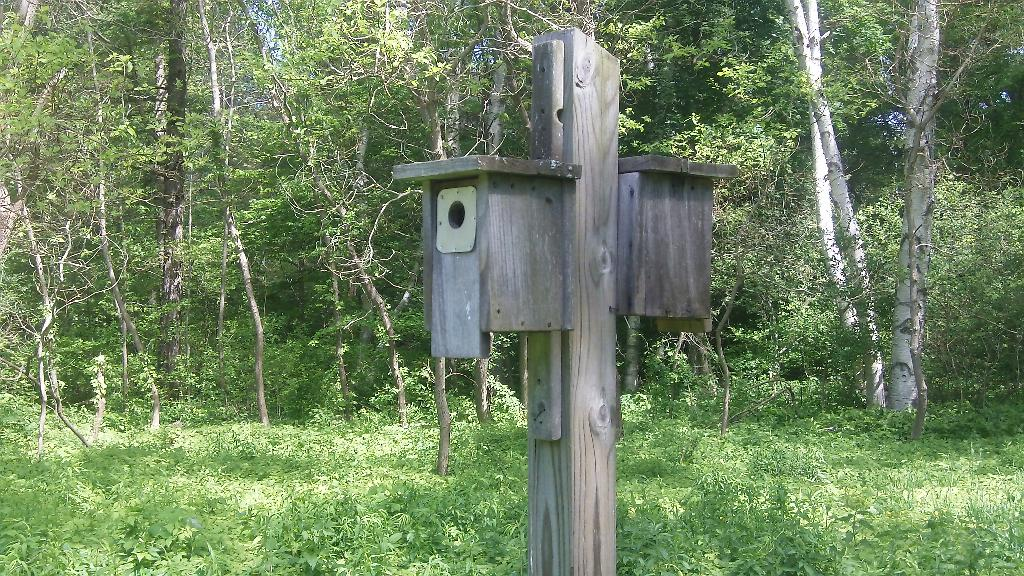Tree: (0, 0, 1024, 474)
